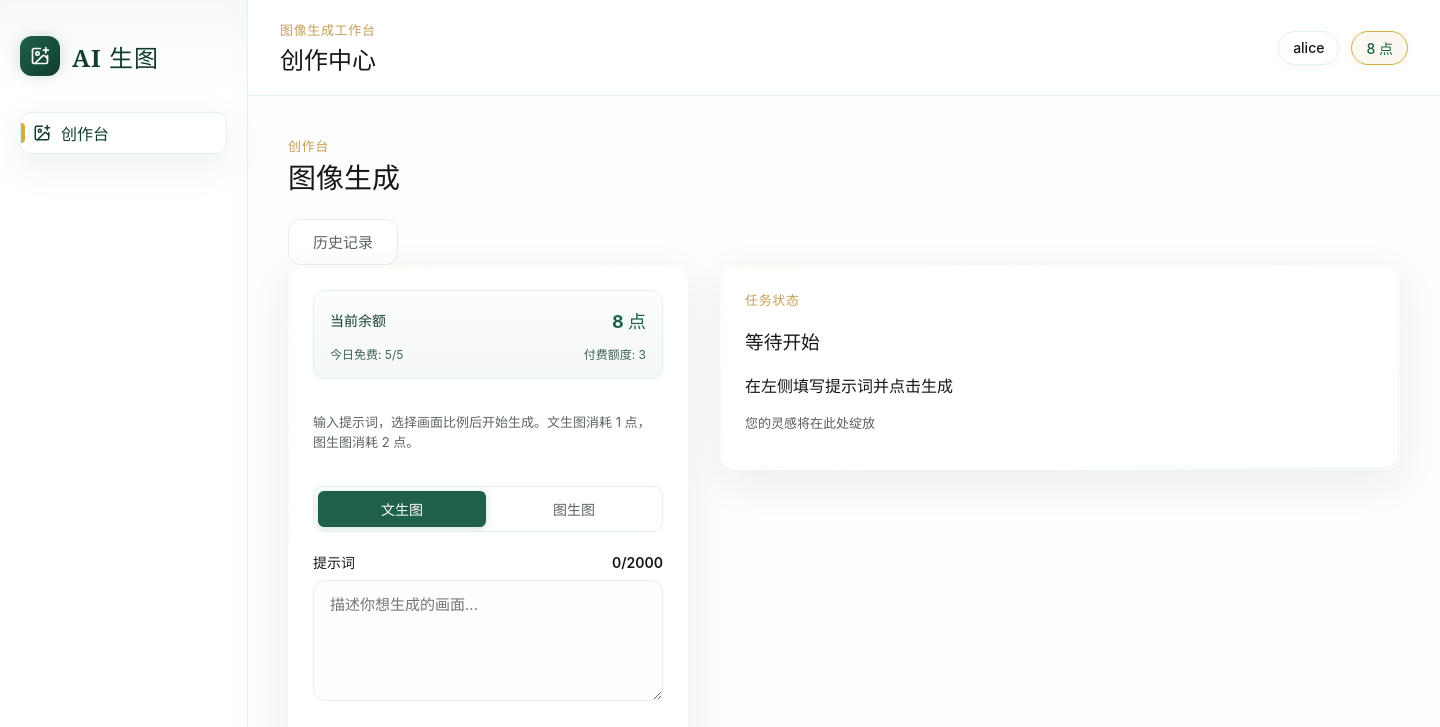
Test case: App › refreshes displayed credits after creating a generation
Expected: the text "8 点" next to "alice" is shown, [1352,30,1408,64]
Type "一只杯子" into the text box labelled "提示词" at (488, 641), box [313,580,663,701]
(page scrolled)
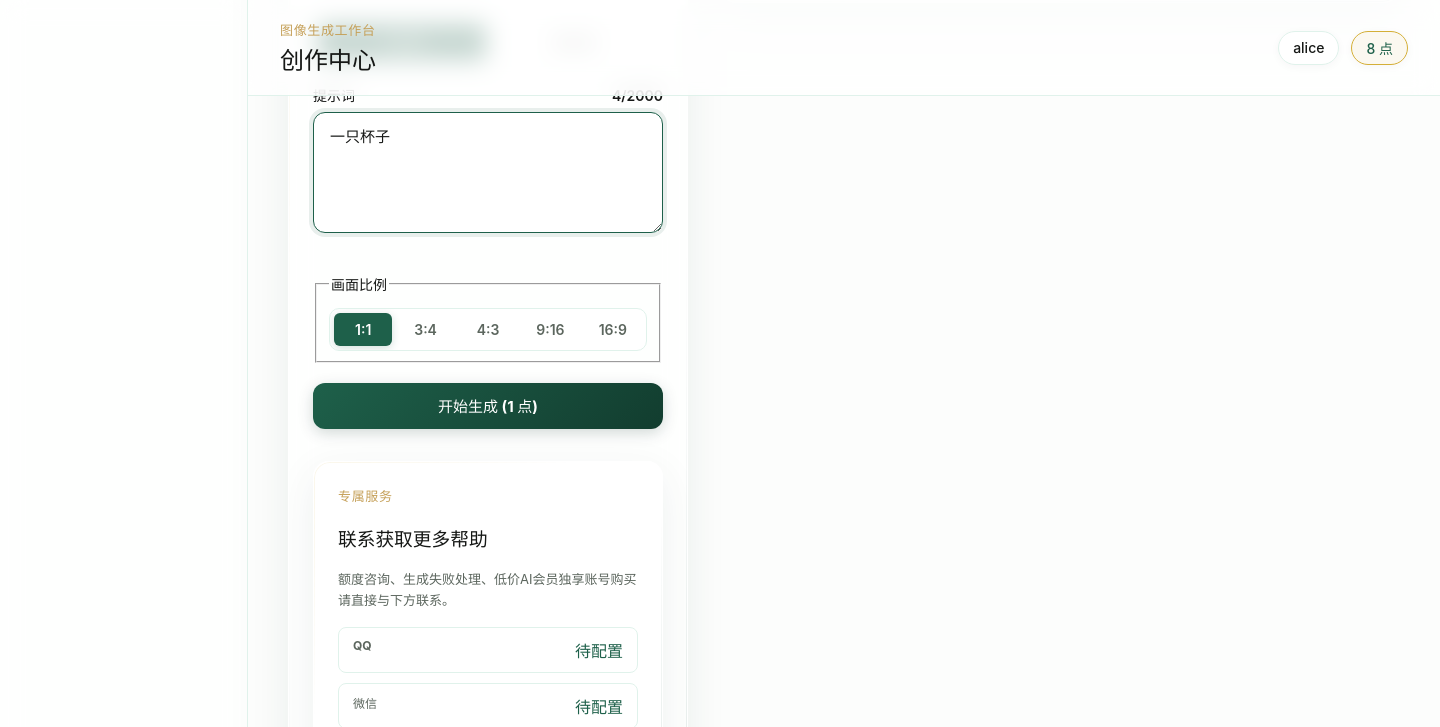
Click the button "开始生成 (1 点)" at (488, 406), box [313,383,663,429]
(page scrolled)
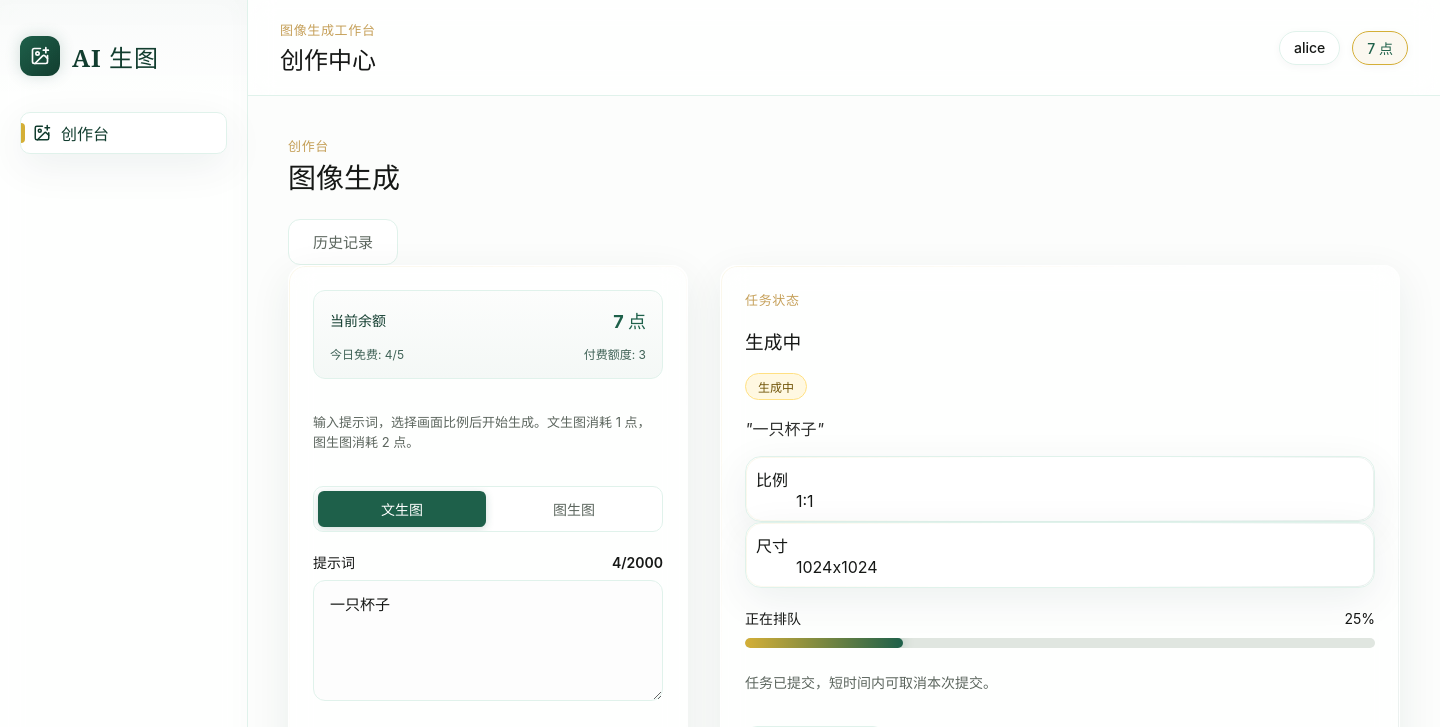
Now the text "7 点" next to "alice" is shown, box [1352,30,1408,64]
Now the text "今日免费: 4/5" is shown, box [330,345,404,362]
